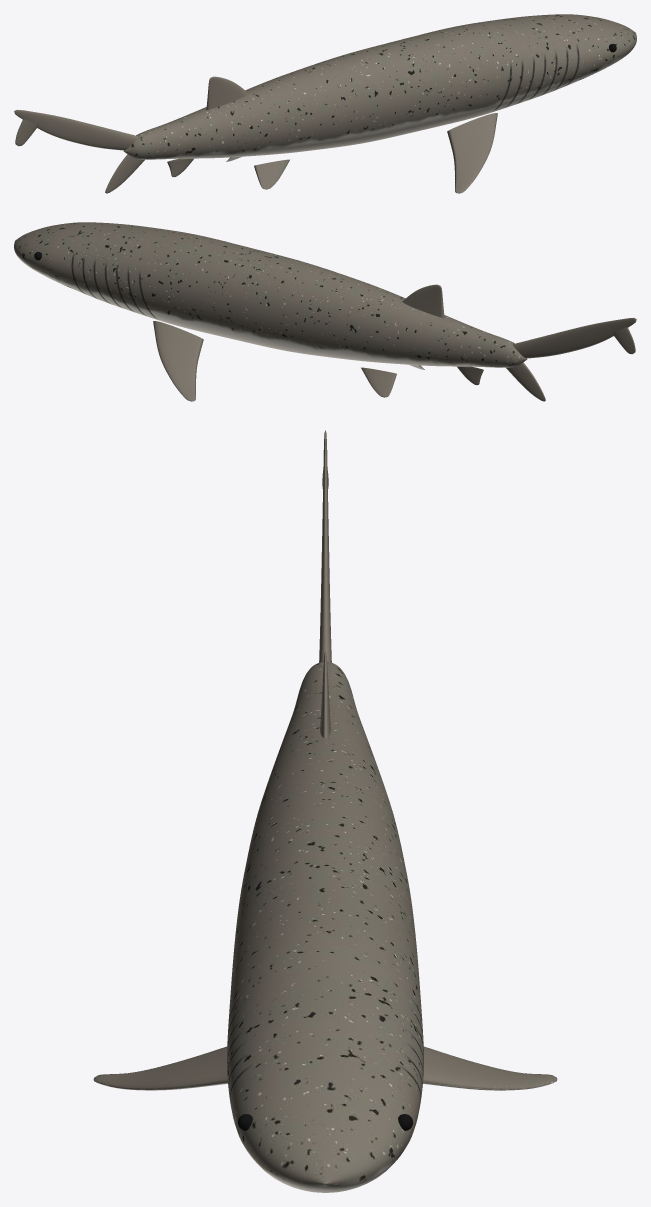
The model's file is sevengillLo.glb.
The picture shows the model from 3 angles, top to bottom: view 1: azimuth 30°, elevation 25°; view 2: azimuth 150°, elevation 25°; view 3: azimuth 270°, elevation 25°; orthographic projection. The views are drawn at different scales.
Parts seen in each view (by area): view 1: skin; view 2: skin; view 3: skin.
Part boxes in pixels (<box>): skin: <box>14,14,636,193</box>; skin: <box>14,222,636,401</box>; skin: <box>93,430,557,1192</box>.
Size of the model in its own units: 4.03 by 0.8377 by 1.3.
2 materials, 1 textured.
